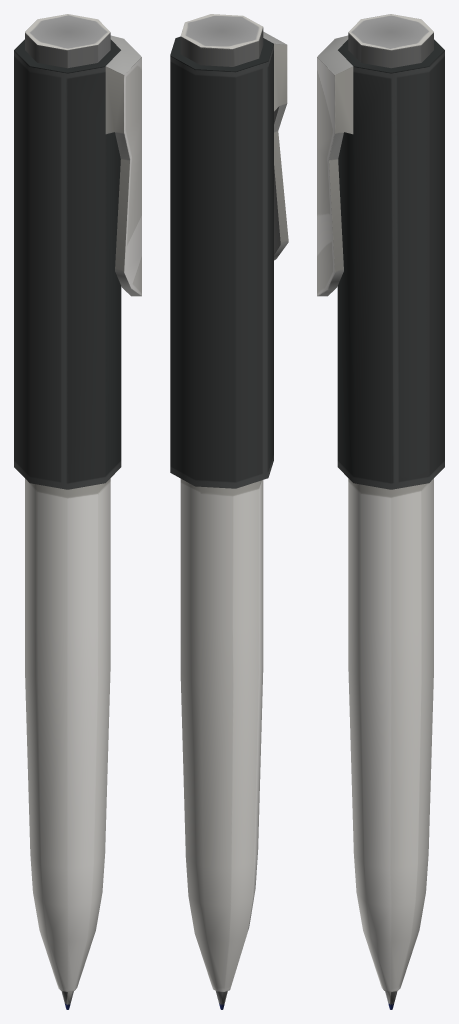
The model's file is office_pack_ballpointPen_1.fbx.
3 views of the same model, side by side, from view 1: azimuth 90°, elevation 25°; view 2: azimuth 150°, elevation 25°; view 3: azimuth 270°, elevation 25° (orthographic).
Parts seen in each view (by area): view 1: office_pack_ballpointPen_1; view 2: office_pack_ballpointPen_1; view 3: office_pack_ballpointPen_1.
Boxes of the visible parts, <box> form: office_pack_ballpointPen_1: <box>14,14,141,1009</box>; office_pack_ballpointPen_1: <box>170,14,288,1009</box>; office_pack_ballpointPen_1: <box>317,14,444,1009</box>.
Size of the model in its own units: 2.16 by 21.7 by 2.57.
